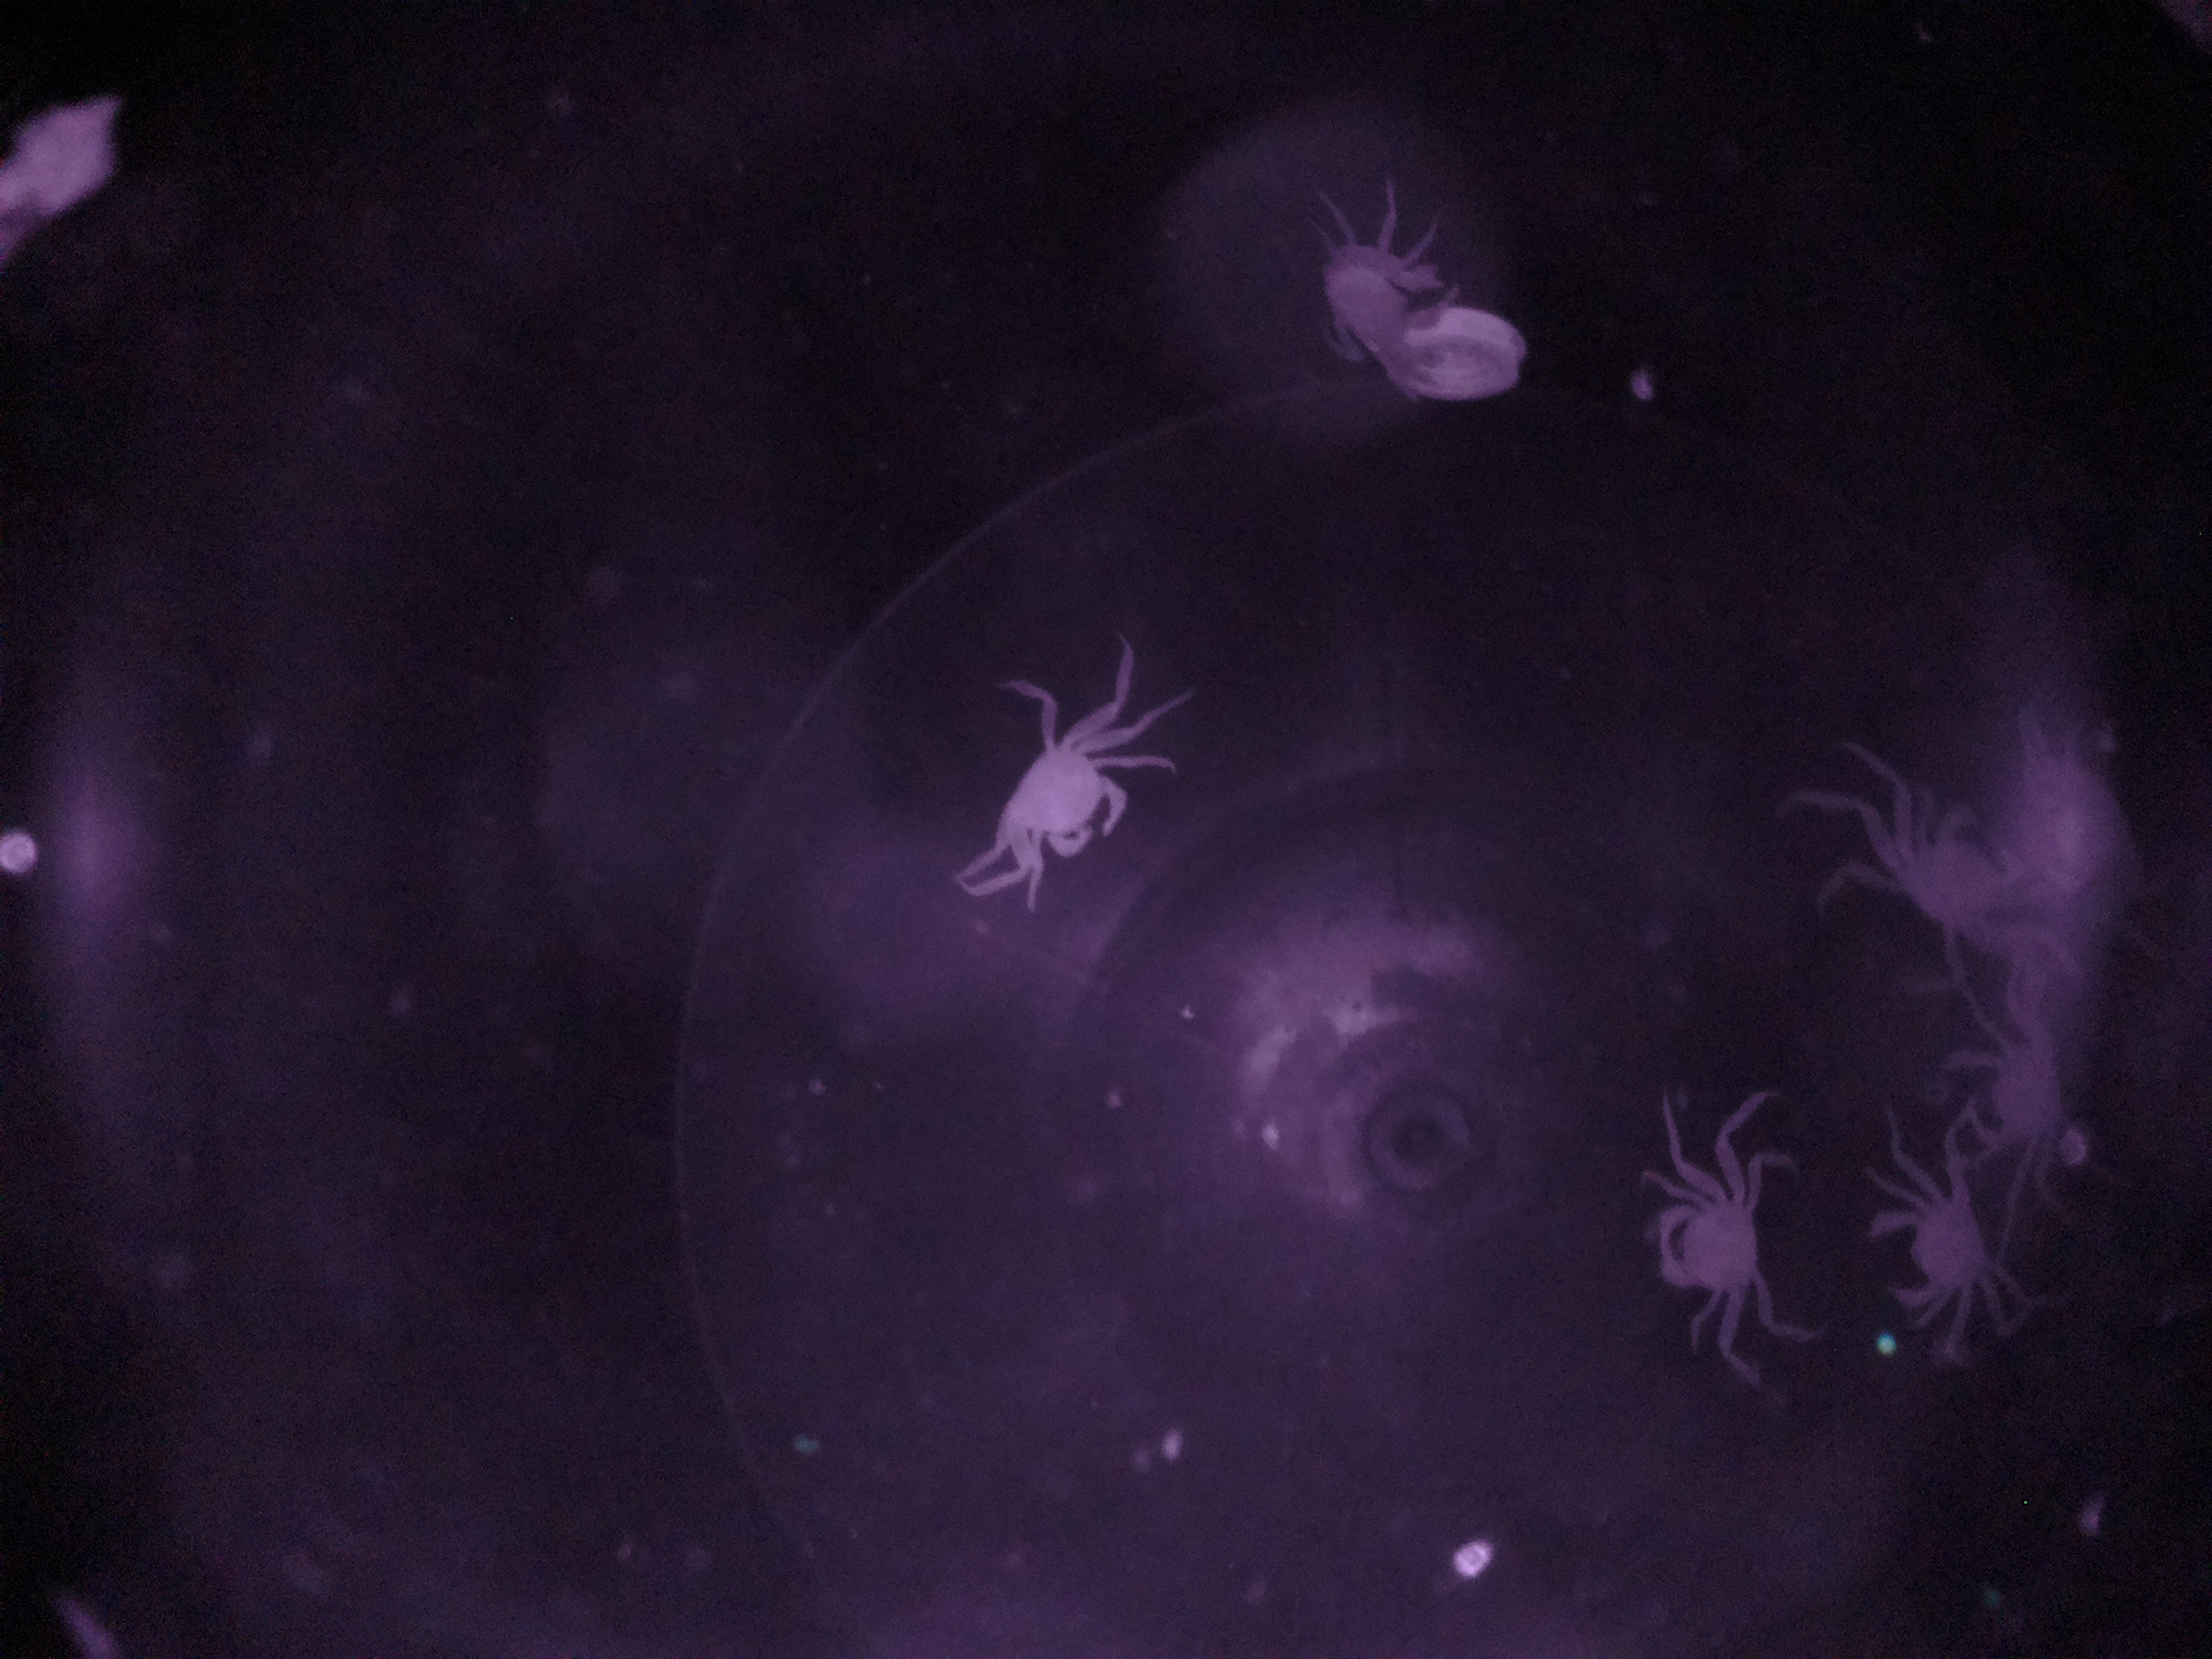Crab: (956, 695, 1146, 897), (1872, 774, 2040, 974), (1635, 1154, 1785, 1328), (1864, 1169, 2013, 1342)
